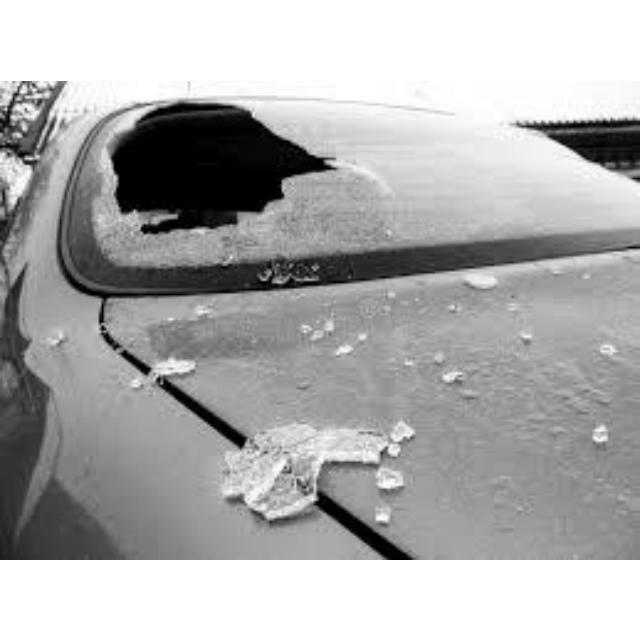Rear-windscreen-Damage: (43, 100, 638, 300)
